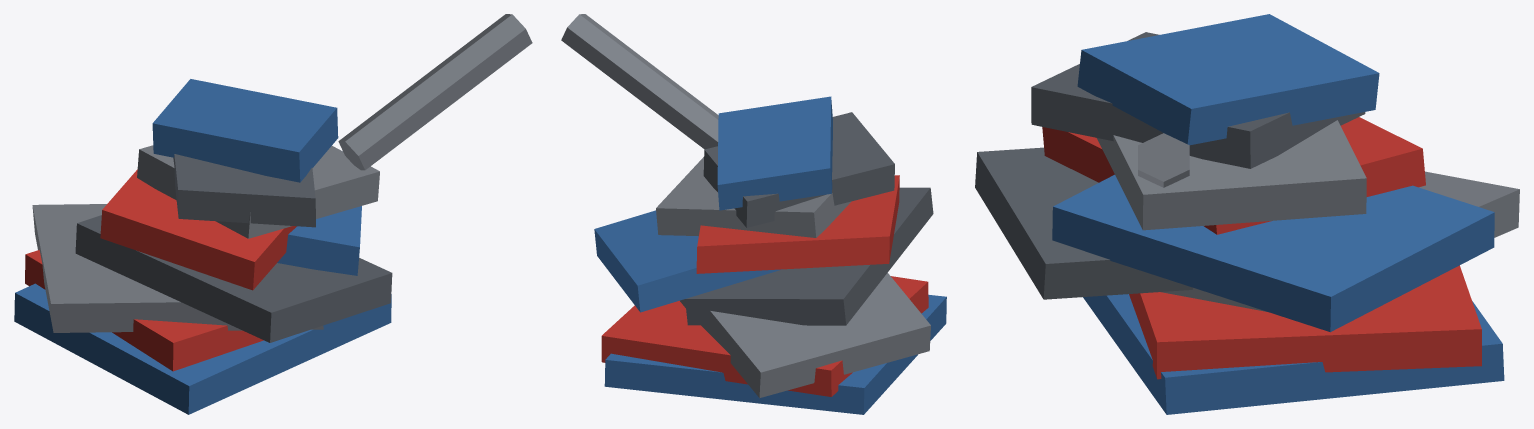
The model's file is env_r7_metal_junk_heap.glb.
3 renders of one model, left to right at view 1: azimuth 30°, elevation 25°; view 2: azimuth 150°, elevation 25°; view 3: azimuth 270°, elevation 25°, orthographic. The views are drawn at different scales.
Parts seen in each view (by area): view 1: env_r7_metal_junk_heap; view 2: env_r7_metal_junk_heap; view 3: env_r7_metal_junk_heap.
Part boxes in pixels (bbox=[...]): env_r7_metal_junk_heap: bbox=[14, 14, 532, 414]; env_r7_metal_junk_heap: bbox=[561, 14, 946, 414]; env_r7_metal_junk_heap: bbox=[975, 14, 1519, 414].
Size of the model in its own units: 2.6 by 1.6 by 2.2.
1 material, 1 textured.
